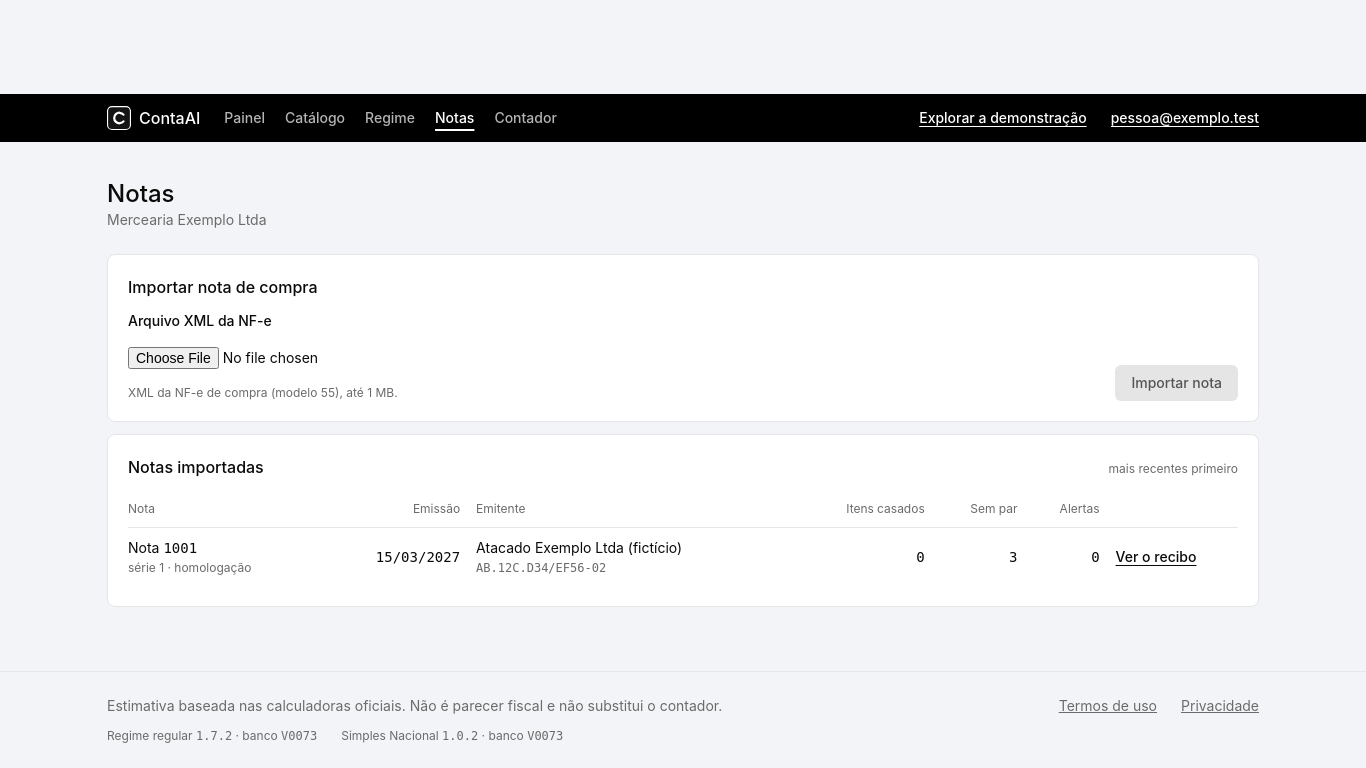
it: "Cadastrar este item" na tela de Notas › "Ver o recibo" na lista abre o recibo gravado, sem enviar o XML
(page scrolled)
What coordinates should you click on to do the following:
click the button with aria-label "Ver o recibo da nota 1001"
I would click on:
 (1156, 557)
Its box is [1116,547,1196,567].
(page scrolled)
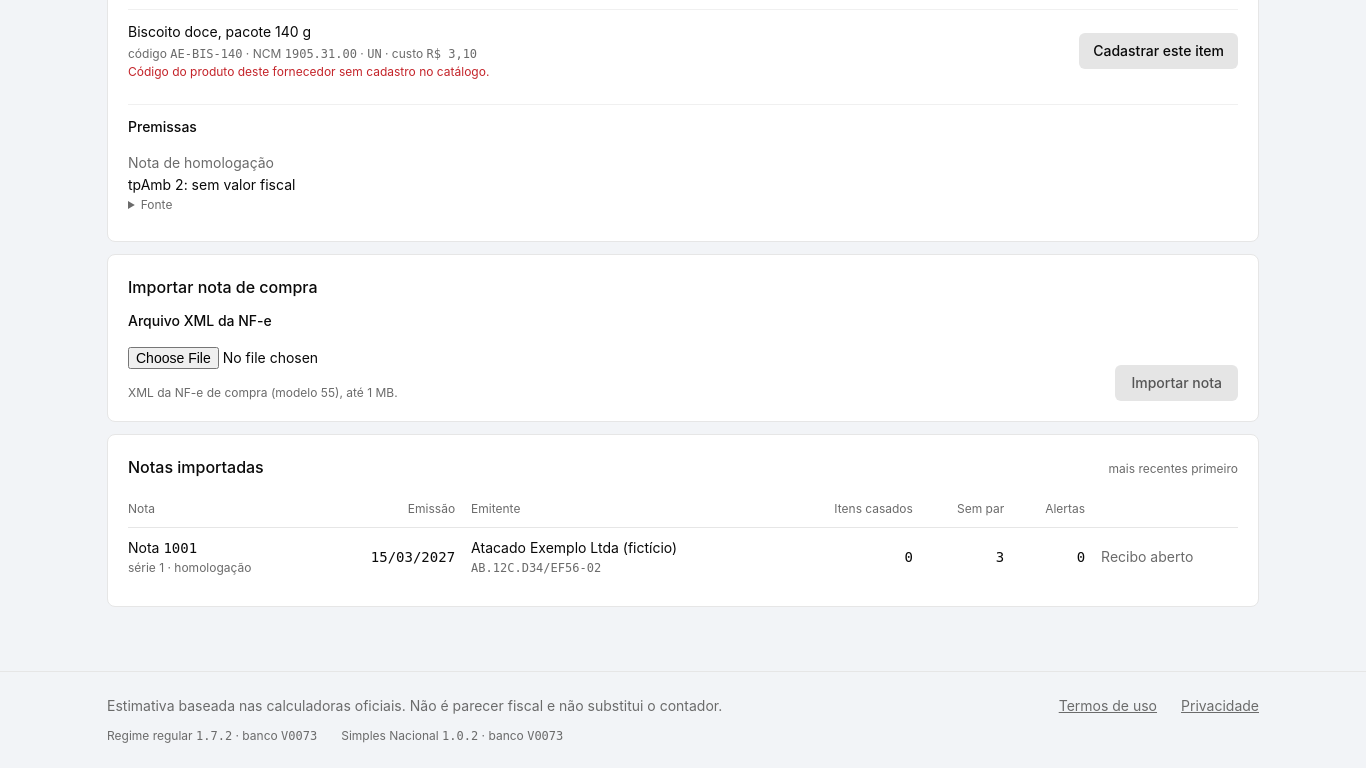
Now the text "Recibo aberto" is shown, box [1101,548,1193,565]
Now the number of buttons "Cadastrar este item" is 3
